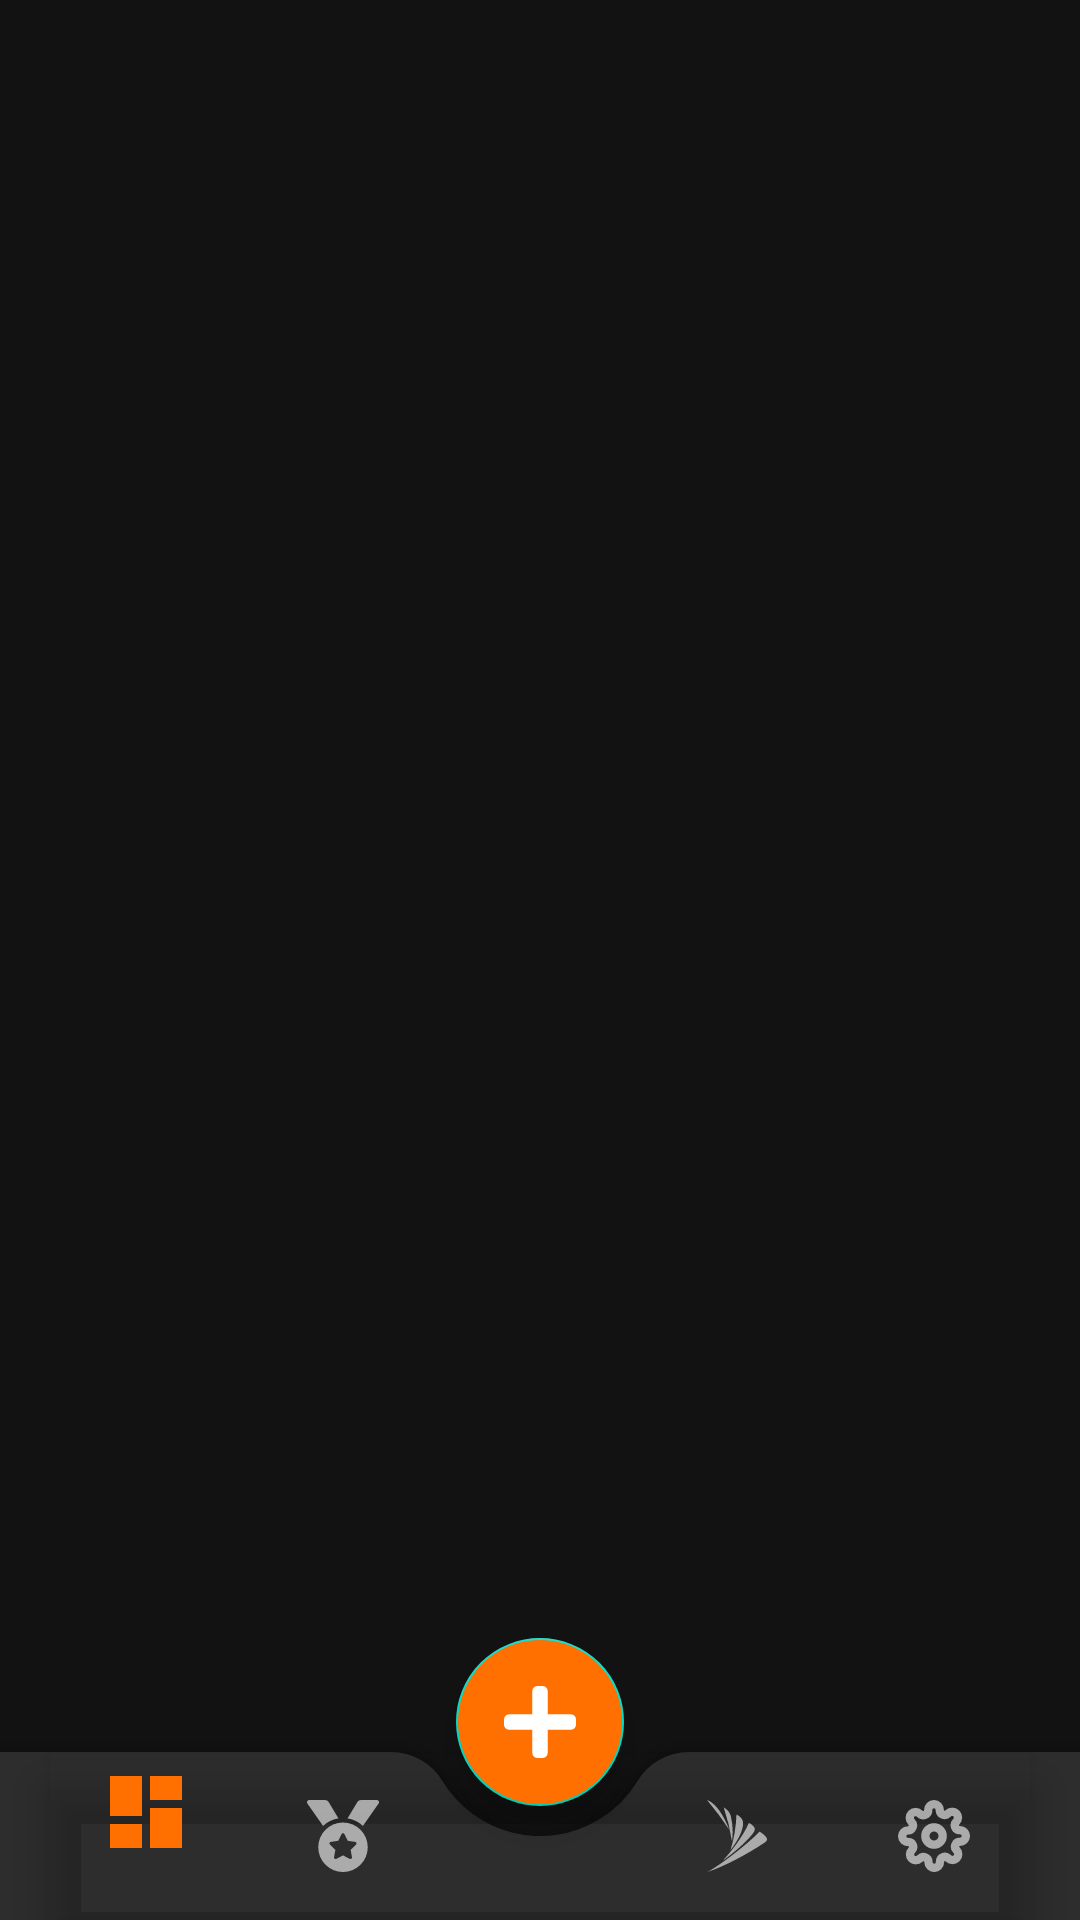

Where to tap for icons on this 1080×1920 app screen, as point (x, y):
plus: point (540, 1752)
